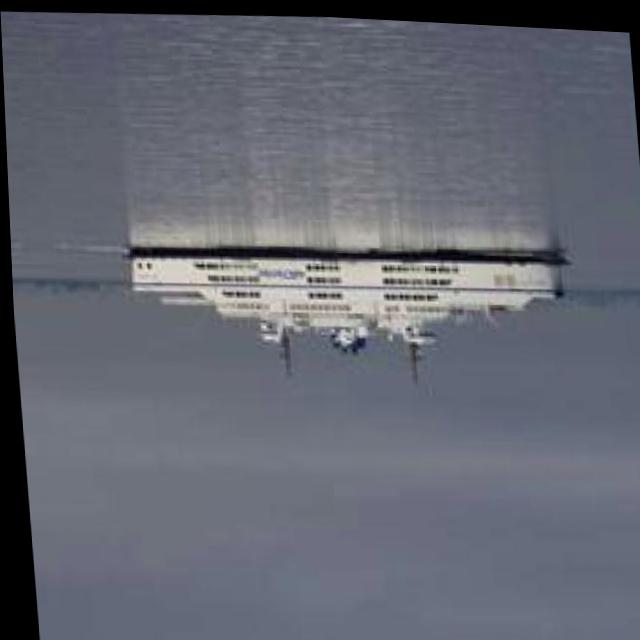ship2: (122, 243, 569, 380)
